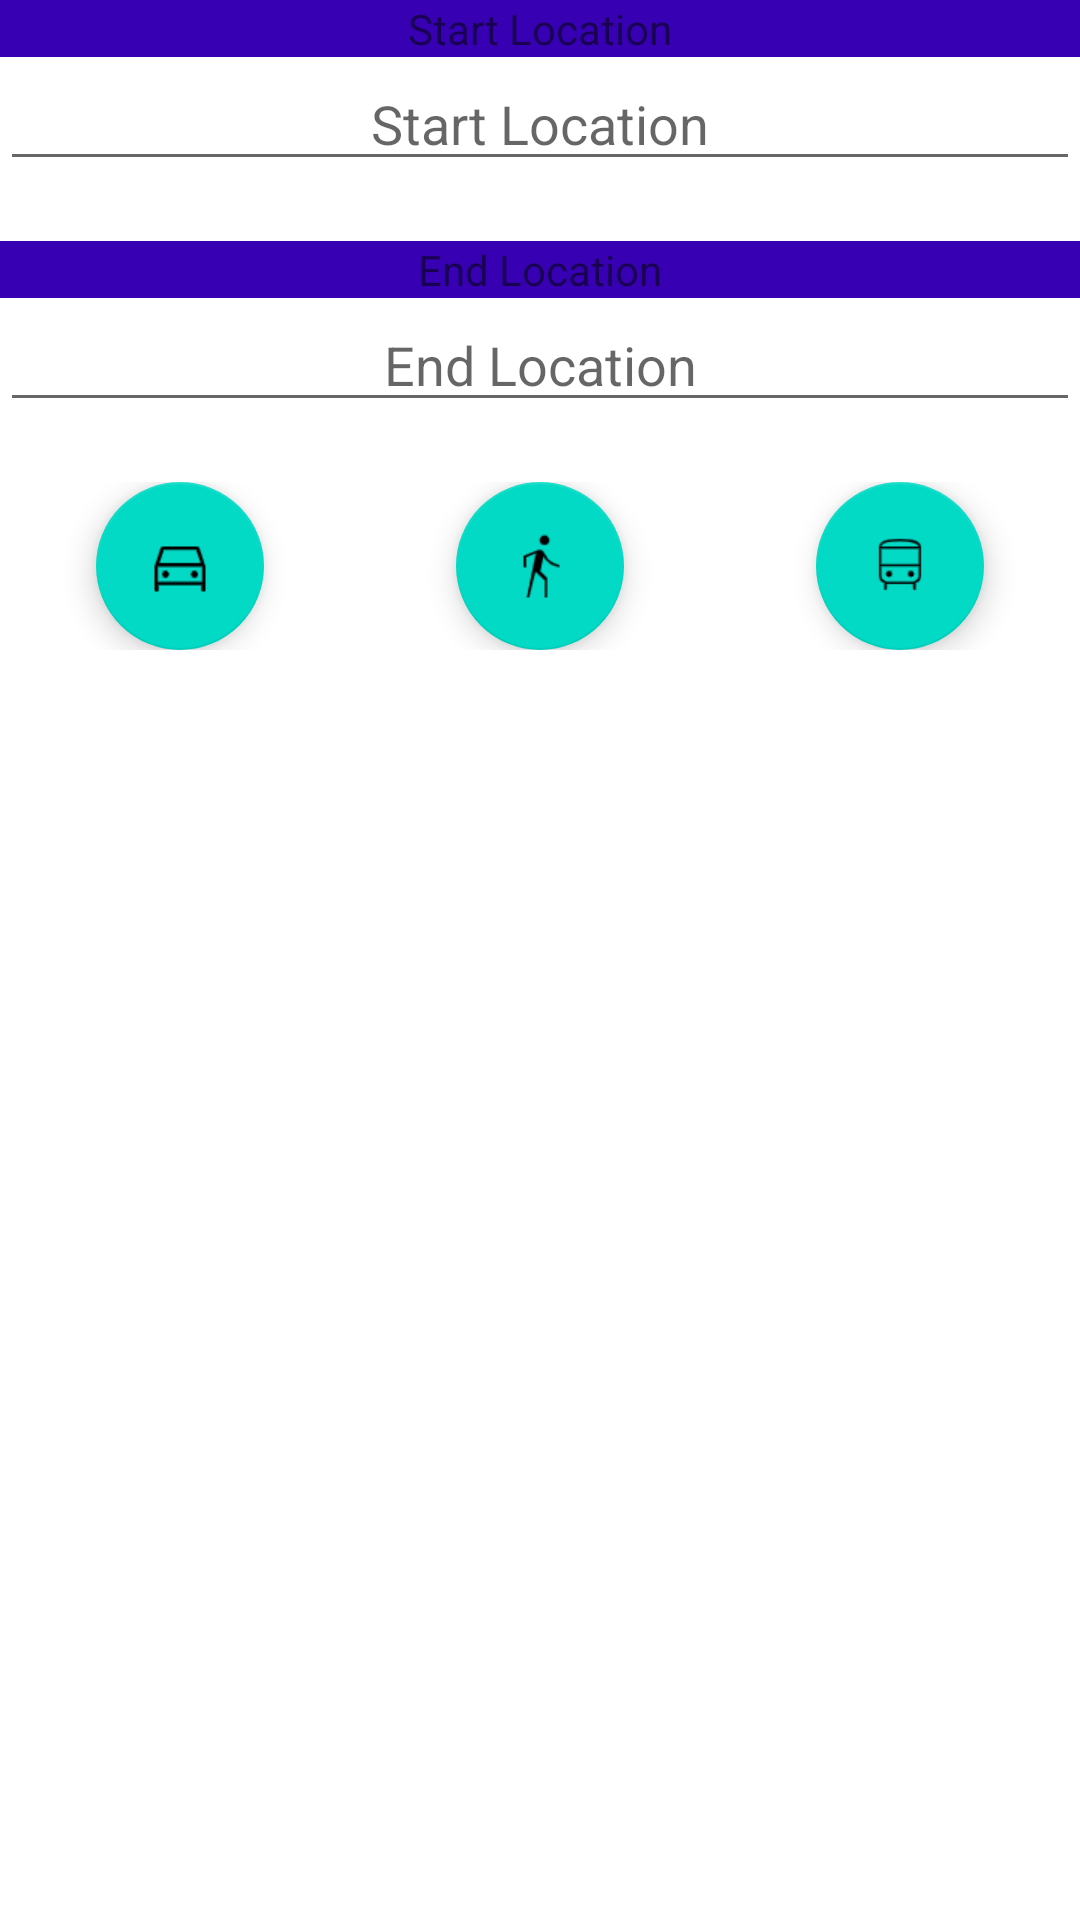

Named icons in this screenshot (1080w x 1920h) and their bounding boxes, box=[x1, y1, x2, y2]:
directionsbus: box=[816, 482, 984, 650]
directionscar: box=[96, 482, 264, 650]
directionswalk: box=[456, 482, 624, 650]
